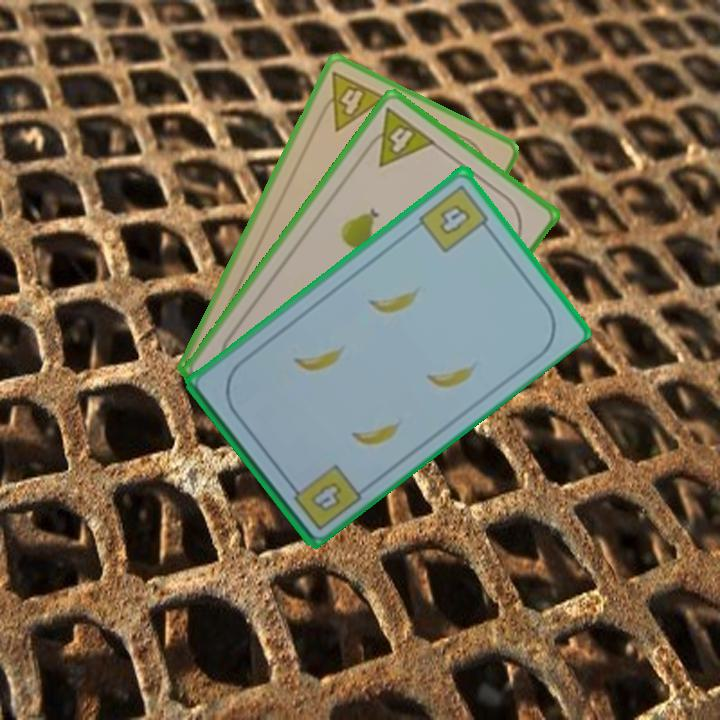4b: (415, 180, 495, 255), (283, 460, 364, 533)
4p: (358, 103, 439, 170), (312, 67, 390, 134)
